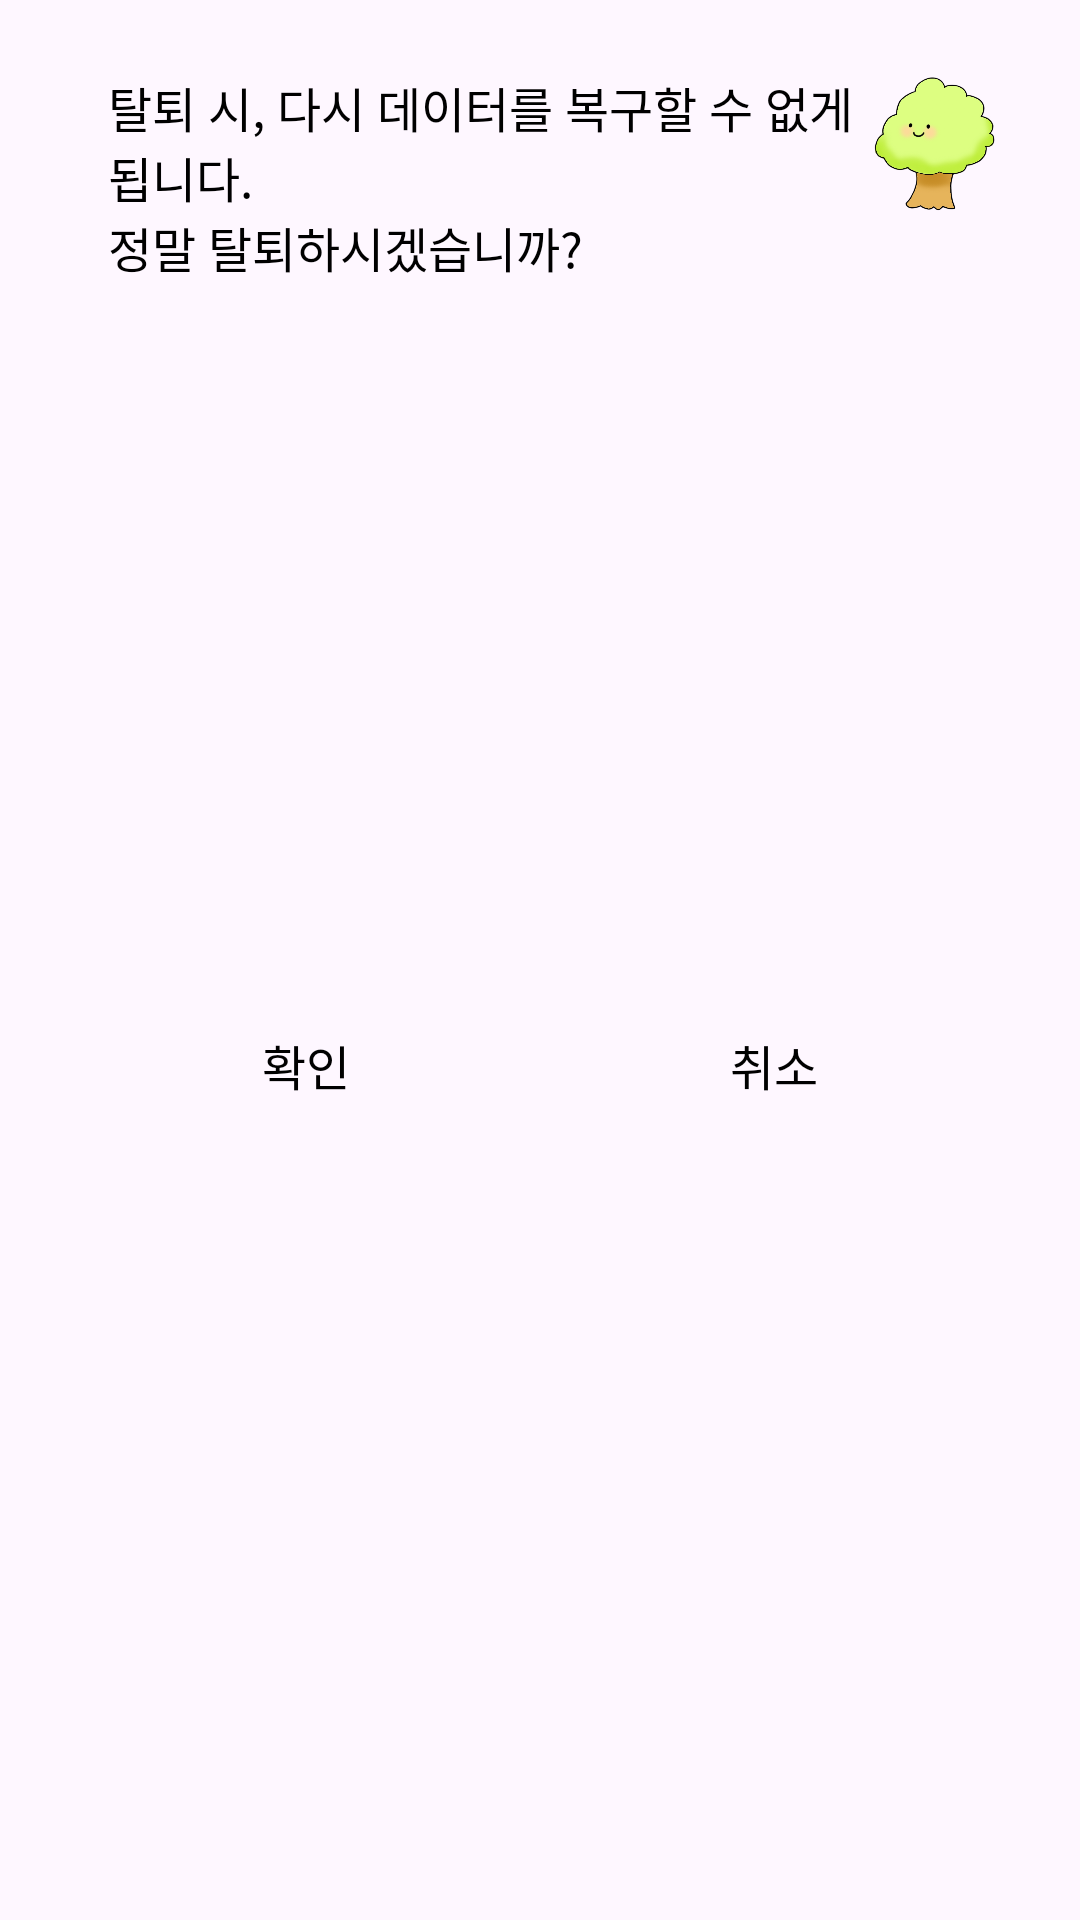

Icon click points for this 1080*1920 phone screenshot, format (x=x, y=y):
tree: (x=935, y=143)
